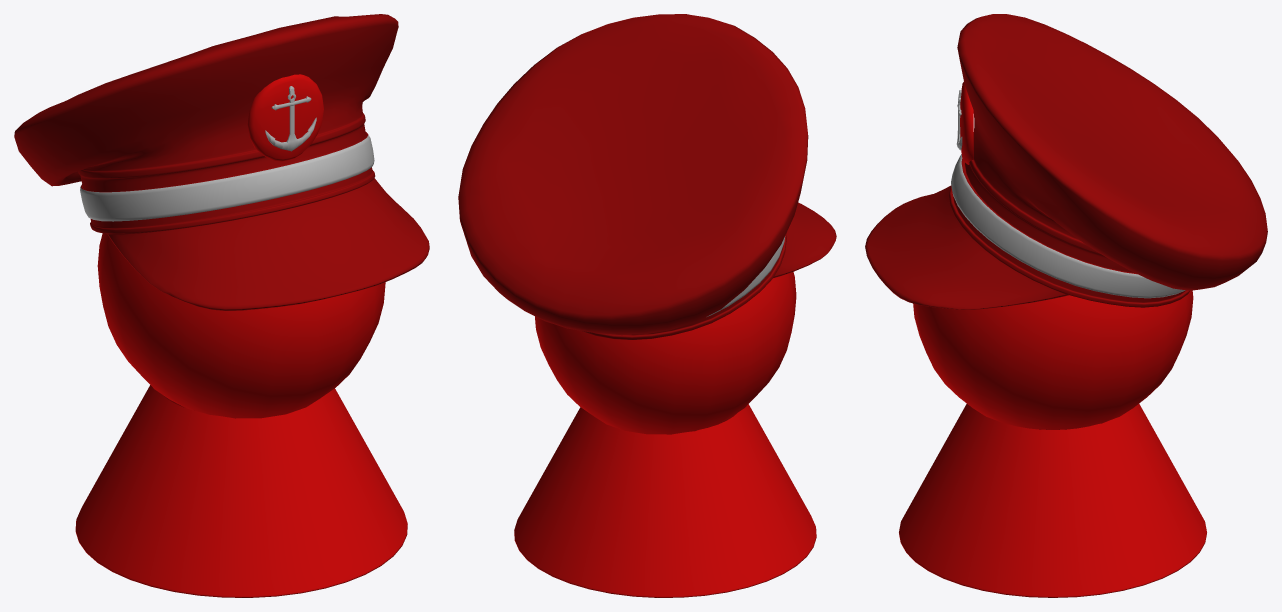
Rendered from Commander2.fbx.
The picture shows the model from 3 angles, left to right: view 1: azimuth 30°, elevation 25°; view 2: azimuth 150°, elevation 25°; view 3: azimuth 270°, elevation 25°; orthographic projection. The views are drawn at different scales.
Parts seen in each view (by area): view 1: polySurface5; view 2: polySurface5; view 3: polySurface5.
Boxes of the visible parts, x1=… form: polySurface5: x1=14, y1=14, x2=429, y2=597; polySurface5: x1=458, y1=14, x2=836, y2=597; polySurface5: x1=865, y1=14, x2=1267, y2=597.
Size of the model in its own units: 93.85 by 139 by 103.
